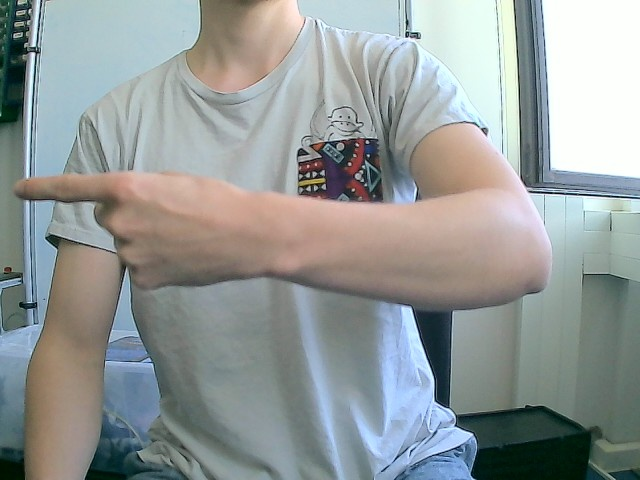right: (13, 169, 270, 292)
